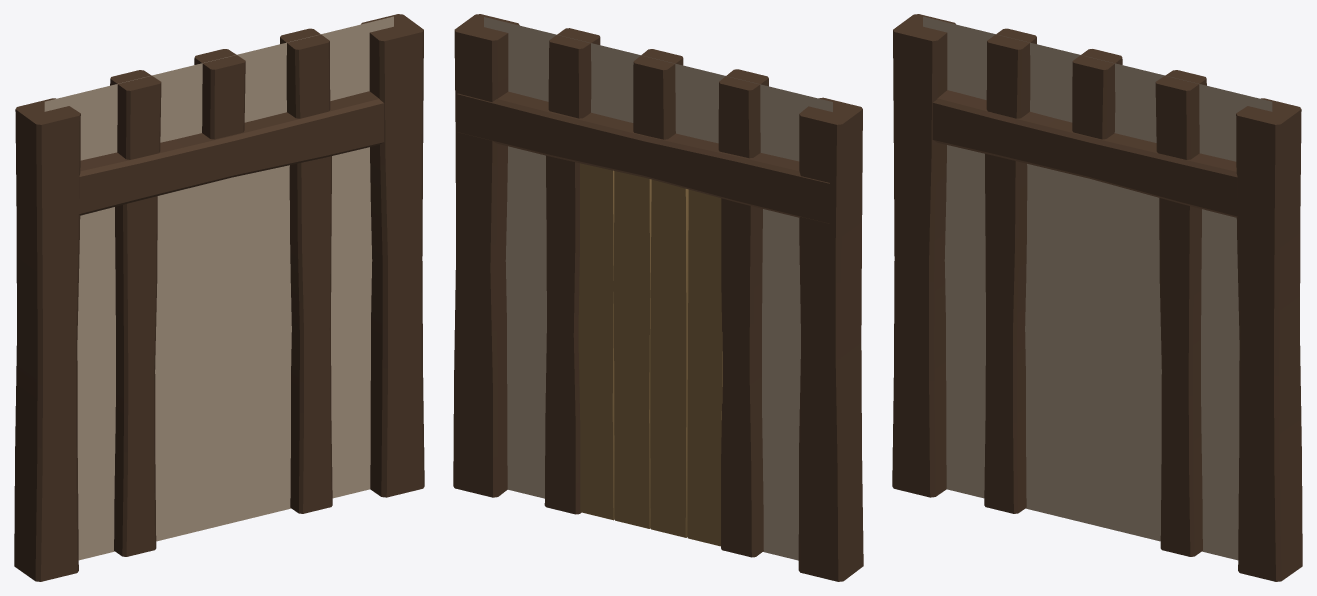
Rendered from DoorWall2.fbx.
3 renders of one model, left to right at view 1: azimuth 30°, elevation 25°; view 2: azimuth 150°, elevation 25°; view 3: azimuth 330°, elevation 25°, orthographic.
Parts seen in each view (by area): view 1: Plane.003; view 2: Plane.003; view 3: Plane.003.
Part boxes in pixels (x1,y1,x2,y2): Plane.003: (14,14,424,581); Plane.003: (453,14,863,581); Plane.003: (892,14,1302,581).
Bounding box in the file's own units: 2.23 × 2.56 × 0.2466.
